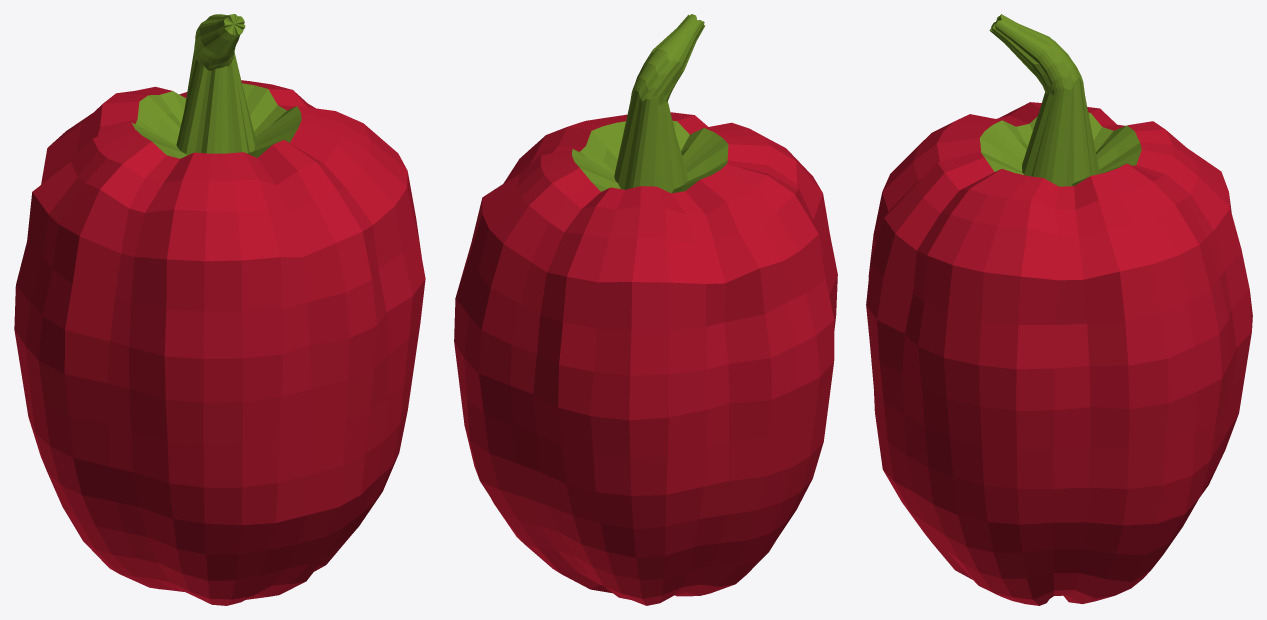
File: Red Pepper.fbx
The picture shows the model from 3 angles, left to right: view 1: azimuth 30°, elevation 25°; view 2: azimuth 150°, elevation 25°; view 3: azimuth 270°, elevation 25°; orthographic projection. The views are drawn at different scales.
Visible parts, largest first — view 1: Sphere; view 2: Sphere; view 3: Sphere.
Part boxes in pixels (x1,y1,x2,y2): Sphere: [14, 14, 425, 605]; Sphere: [454, 14, 837, 605]; Sphere: [866, 14, 1252, 605].
Size of the model in its own units: 25.96 by 41.98 by 25.84.
